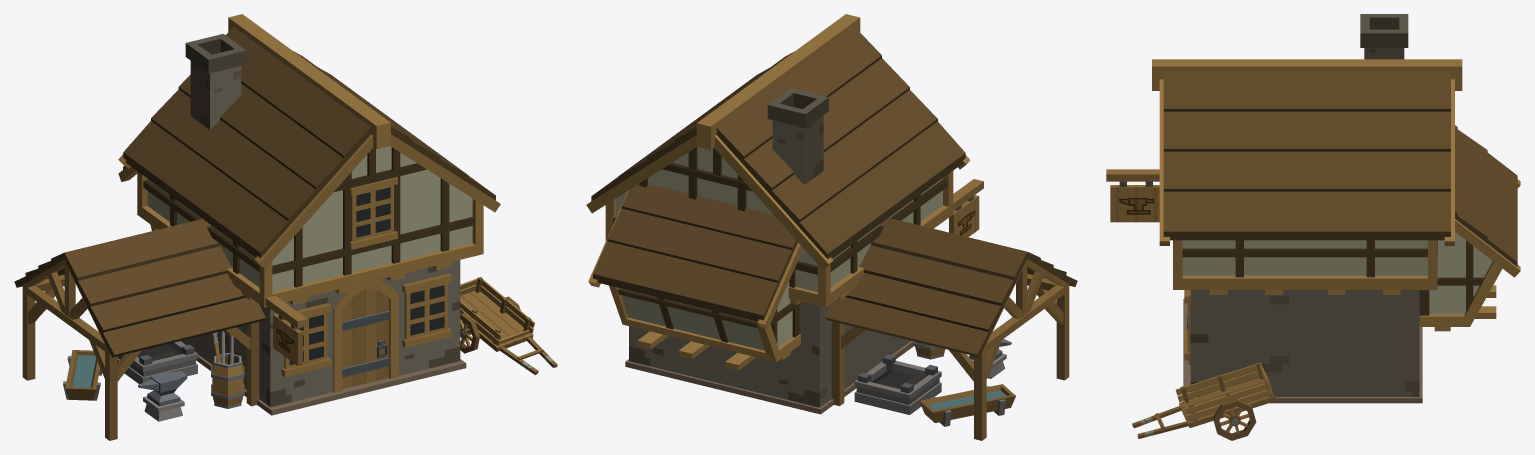
The model's file is SF_Bld_House_Blacksmith_01.fbx.
3 renders of one model, left to right at view 1: azimuth 30°, elevation 25°; view 2: azimuth 150°, elevation 25°; view 3: azimuth 270°, elevation 25°, orthographic. The views are drawn at different scales.
Parts seen in each view (by area): view 1: SF_Bld_House_Blacksmith_01; view 2: SF_Bld_House_Blacksmith_01; view 3: SF_Bld_House_Blacksmith_01.
Part boxes in pixels (x1=…): SF_Bld_House_Blacksmith_01: x1=14, y1=14, x2=557, y2=440; SF_Bld_House_Blacksmith_01: x1=586, y1=14, x2=1077, y2=440; SF_Bld_House_Blacksmith_01: x1=1106, y1=14, x2=1520, y2=440.
Bounding box in the file's own units: 17.17 × 11.44 × 14.17.
